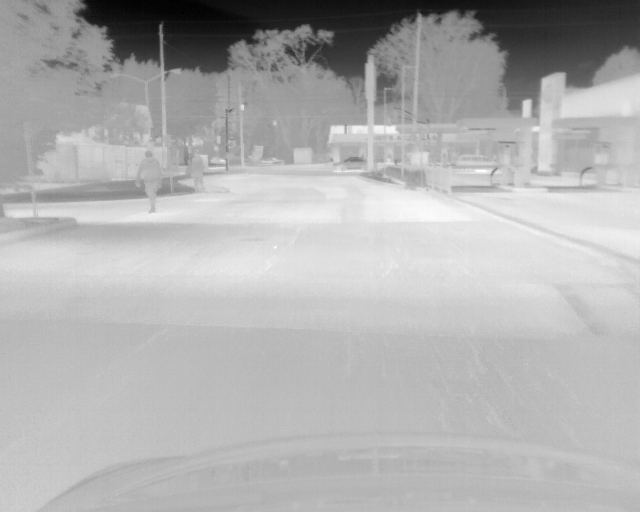car: (331, 156, 372, 173), (454, 153, 498, 168), (259, 156, 283, 167)
people: (133, 149, 162, 215), (185, 148, 206, 195)
